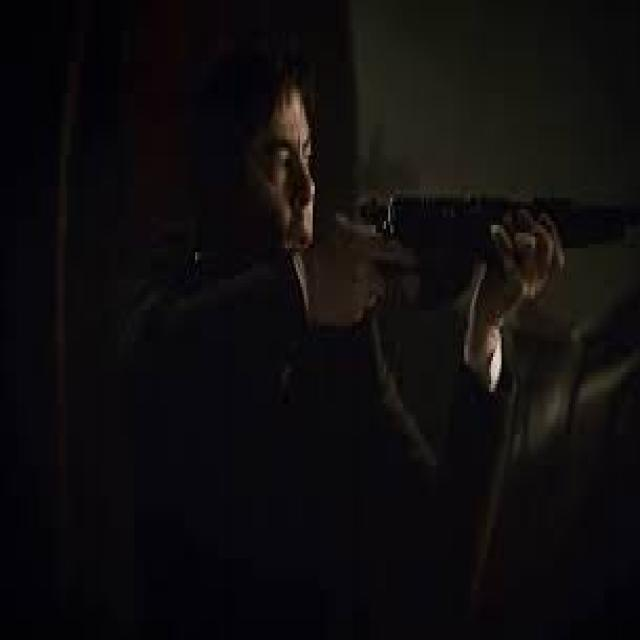weapon: (190, 192, 640, 301)
